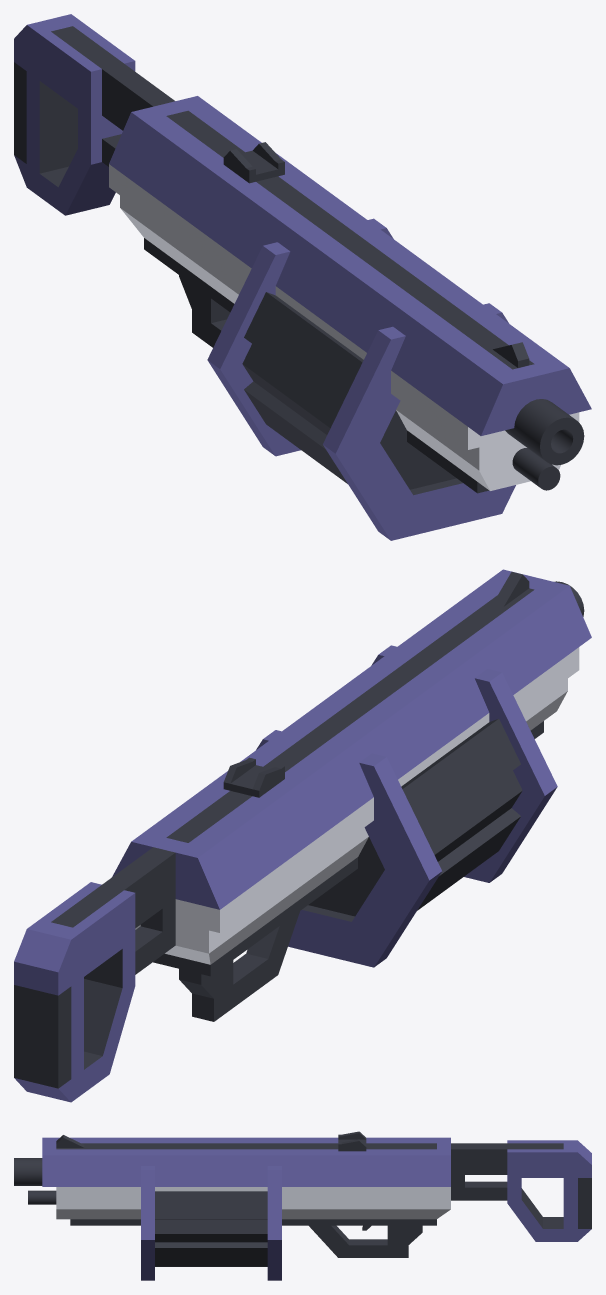
3 renders of one model, top to bottom at view 1: azimuth 30°, elevation 25°; view 2: azimuth 150°, elevation 25°; view 3: azimuth 270°, elevation 25°, orthographic. The views are drawn at different scales.
Visible parts, largest first — view 1: mergedBlocks; view 2: mergedBlocks; view 3: mergedBlocks.
Boxes of the visible parts, x1,y1,x2,y2 form: mergedBlocks: [14, 14, 591, 540]; mergedBlocks: [14, 569, 591, 1102]; mergedBlocks: [14, 1131, 591, 1280].
Size of the model in its own units: 1 by 1.01 by 4.1.
